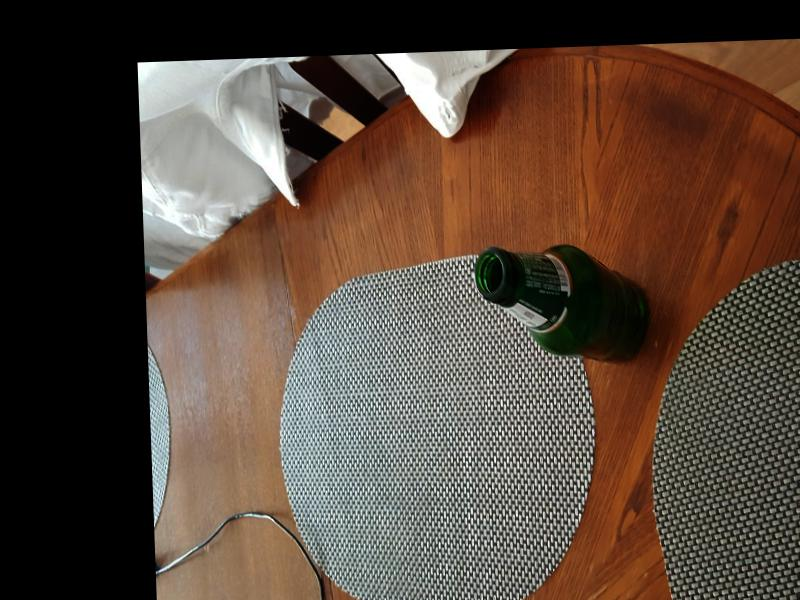Beer: (474, 242, 652, 364)
